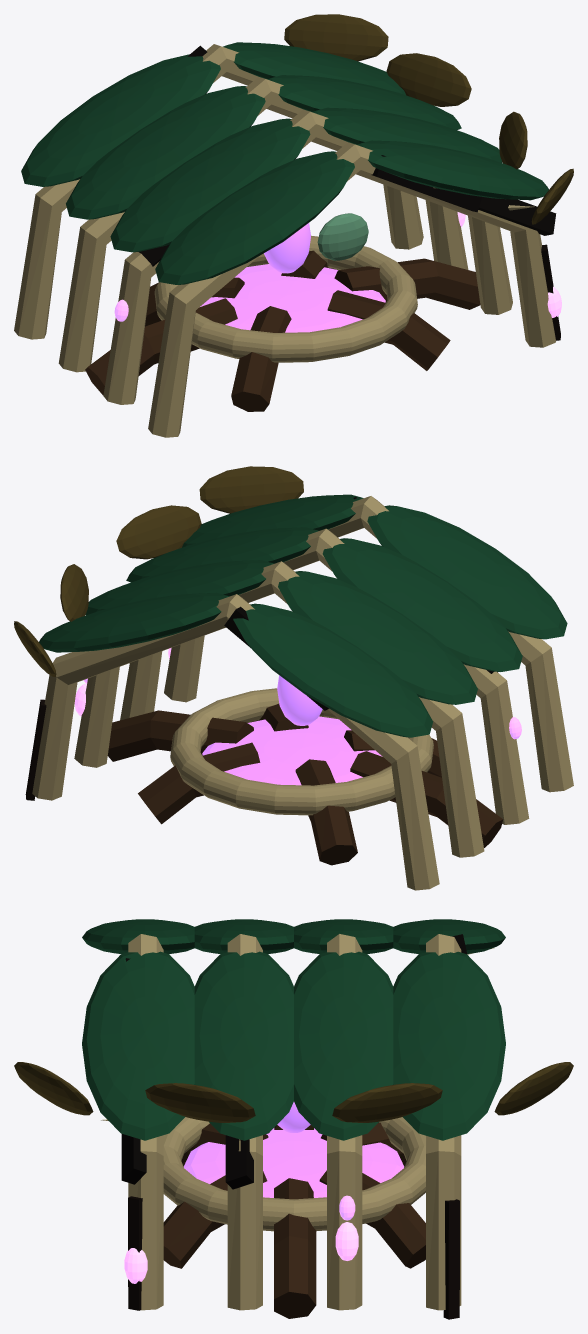
File: circle-conservatory.glb
3 views of the same model, one above another, from view 1: azimuth 30°, elevation 25°; view 2: azimuth 150°, elevation 25°; view 3: azimuth 270°, elevation 25° (orthographic). The views are drawn at different scales.
Parts seen in each view (by area): view 1: circle-conservatory-growth-canopy-circle-conservatory-leaves, circle-conservatory-growth-ribs-circle-conservatory-wood, circle-conservatory-growth-roots-circle-conservatory-roots, circle-conservatory-damage-critical-circle-conservatory-dama (×2), circle-conservatory-growth-roots-circle-conservatory-wood, circle-conservatory-growth-ribs-circle-conservatory-core, circle-conservatory-growth-canopy-circle-conservatory-owner, circle-conservatory-growth-canopy-focus; view 2: circle-conservatory-growth-canopy-circle-conservatory-leaves, circle-conservatory-growth-ribs-circle-conservatory-wood, circle-conservatory-growth-roots-circle-conservatory-roots, circle-conservatory-growth-roots-circle-conservatory-wood, circle-conservatory-damage-critical-circle-conservatory-dama, circle-conservatory-growth-ribs-circle-conservatory-core, circle-conservatory-growth-canopy-focus, circle-conservatory-damage-moderate-circle-conservatory-dama; view 3: circle-conservatory-growth-canopy-circle-conservatory-leaves, circle-conservatory-growth-ribs-circle-conservatory-wood, circle-conservatory-damage-critical-circle-conservatory-dama (×3), circle-conservatory-growth-roots-circle-conservatory-roots, circle-conservatory-growth-roots-circle-conservatory-wood, circle-conservatory-growth-ribs-circle-conservatory-core, circle-conservatory-damage-moderate-circle-conservatory-dama, circle-conservatory-growth-canopy-focus.
Boxes of the visible parts, box(x1,y1,x2,y2) form: circle-conservatory-growth-canopy-circle-conservatory-leaves: box(21, 42, 548, 284); circle-conservatory-growth-ribs-circle-conservatory-wood: box(14, 44, 555, 437); circle-conservatory-growth-roots-circle-conservatory-roots: box(85, 250, 480, 411); circle-conservatory-damage-critical-circle-conservatory-dama (×2): box(139, 14, 573, 266); circle-conservatory-growth-roots-circle-conservatory-wood: box(154, 235, 417, 362); circle-conservatory-growth-ribs-circle-conservatory-core: box(200, 264, 385, 332); circle-conservatory-growth-canopy-circle-conservatory-owner: box(317, 213, 368, 260); circle-conservatory-growth-canopy-focus: box(264, 223, 310, 273); circle-conservatory-growth-canopy-circle-conservatory-leaves: box(39, 494, 567, 737); circle-conservatory-growth-ribs-circle-conservatory-wood: box(32, 496, 573, 890); circle-conservatory-growth-roots-circle-conservatory-roots: box(107, 703, 503, 865); circle-conservatory-growth-roots-circle-conservatory-wood: box(170, 688, 433, 815); circle-conservatory-damage-critical-circle-conservatory-dama: box(14, 466, 303, 676); circle-conservatory-growth-ribs-circle-conservatory-core: box(202, 716, 382, 785); circle-conservatory-growth-canopy-focus: box(277, 675, 322, 725); circle-conservatory-damage-moderate-circle-conservatory-dama: box(25, 699, 46, 800); circle-conservatory-growth-canopy-circle-conservatory-leaves: box(82, 919, 505, 1140); circle-conservatory-growth-ribs-circle-conservatory-wood: box(128, 934, 461, 1310); circle-conservatory-damage-critical-circle-conservatory-dama (×3): box(14, 934, 573, 1283); circle-conservatory-growth-roots-circle-conservatory-roots: box(163, 1122, 425, 1318); circle-conservatory-growth-roots-circle-conservatory-wood: box(163, 1117, 425, 1231); circle-conservatory-growth-ribs-circle-conservatory-core: box(183, 1128, 404, 1197); circle-conservatory-damage-moderate-circle-conservatory-dama: box(128, 1196, 459, 1319); circle-conservatory-growth-canopy-focus: box(277, 1102, 310, 1132).
Size of the model in its own units: 2.82 by 1.7 by 3.01.
